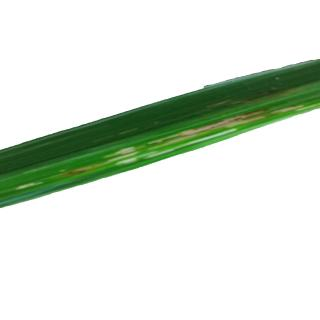Hawar-Daun: (86, 102, 283, 178)
